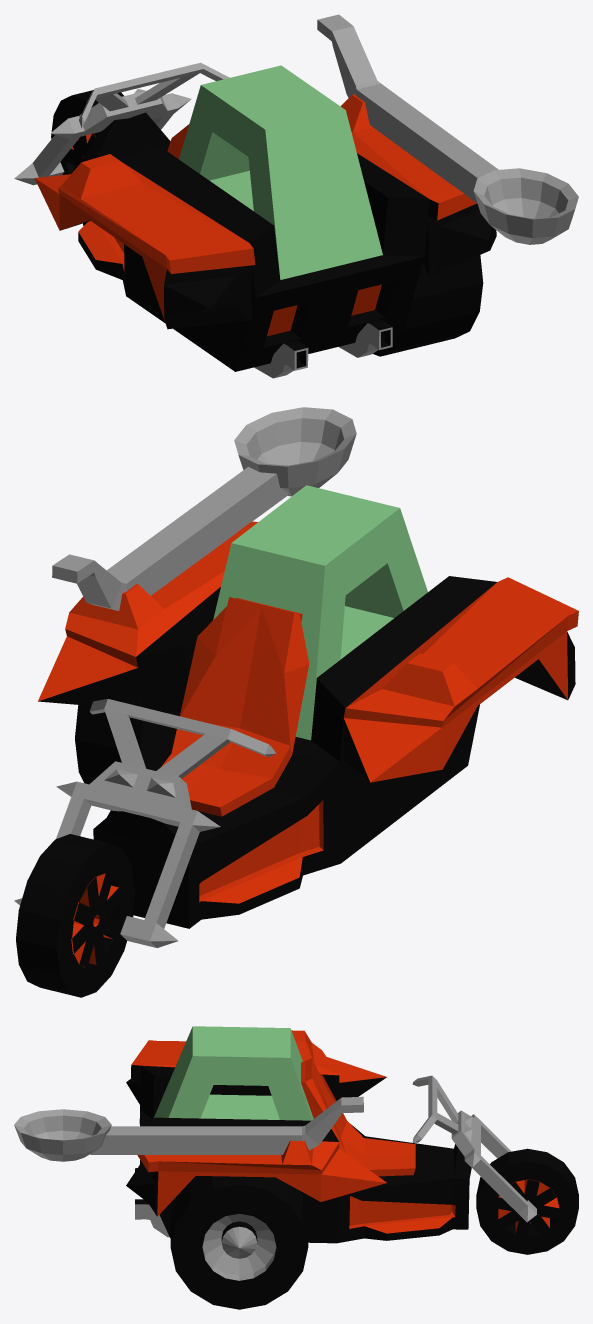
The model's file is Trike.fbx.
The picture shows the model from 3 angles, top to bottom: view 1: azimuth 30°, elevation 25°; view 2: azimuth 150°, elevation 25°; view 3: azimuth 270°, elevation 25°; orthographic projection. The views are drawn at different scales.
Visible parts, largest first — view 1: Chassis, Catapult, Hinterraeder, Vorderrad; view 2: Chassis, Catapult, Vorderrad, Hinterraeder; view 3: Chassis, Hinterraeder, Catapult, Vorderrad.
Boxes of the visible parts, <box> form: Chassis: <box>14,62,496,378</box>; Catapult: <box>317,14,578,244</box>; Hinterraeder: <box>372,255,483,356</box>; Vorderrad: <box>51,90,123,174</box>; Chassis: <box>14,485,578,947</box>; Catapult: <box>52,407,356,610</box>; Vorderrad: <box>16,834,135,997</box>; Hinterraeder: <box>75,704,142,784</box>; Chassis: <box>126,1026,536,1243</box>; Hinterraeder: <box>170,1176,308,1309</box>; Catapult: <box>14,1096,363,1161</box>; Vorderrad: <box>476,1148,578,1254</box>.
Bounding box in the file's own units: 814 × 621 × 1527.
